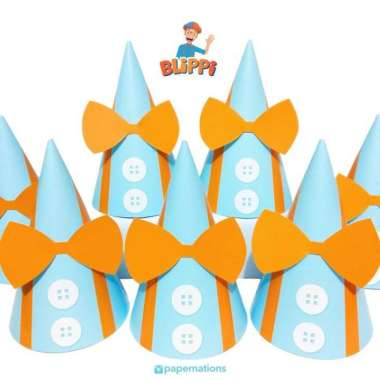cone: (250, 139, 373, 360), (130, 140, 249, 360), (10, 138, 131, 353), (200, 40, 293, 219), (92, 41, 177, 217)
